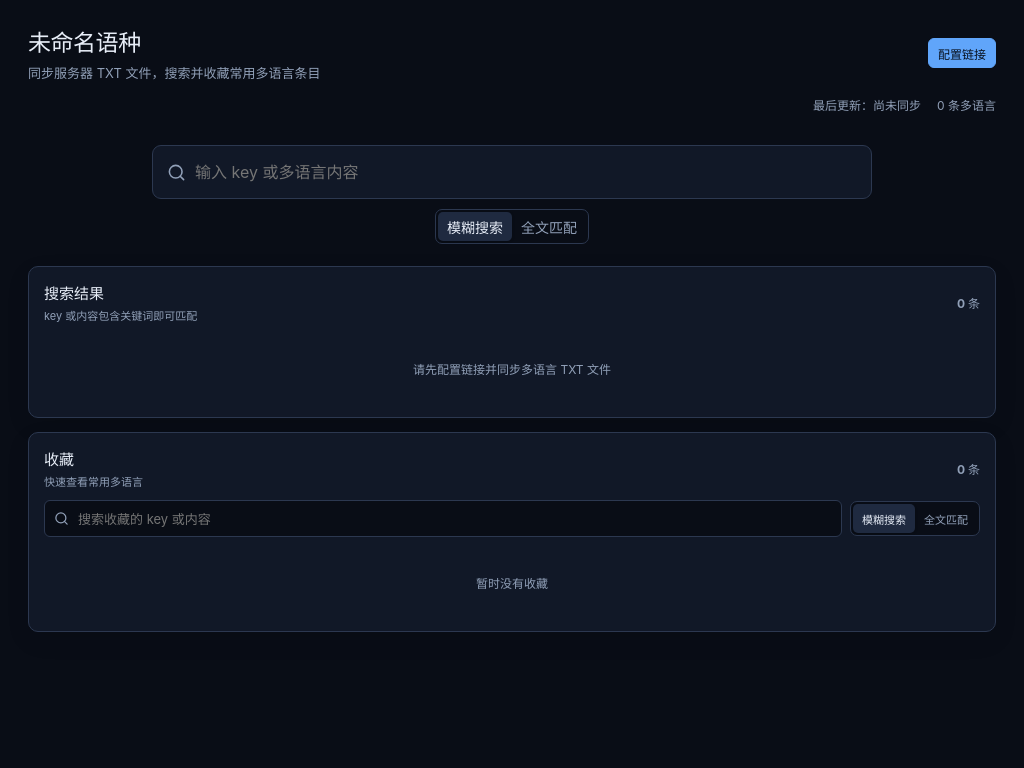
LanguagePage top controls › saves the URL from a dialog without synchronizing, then reveals the sync button
The image size is (1024, 768).
Click the button "配置链接".
click(962, 53)  # box [928, 38, 996, 68]
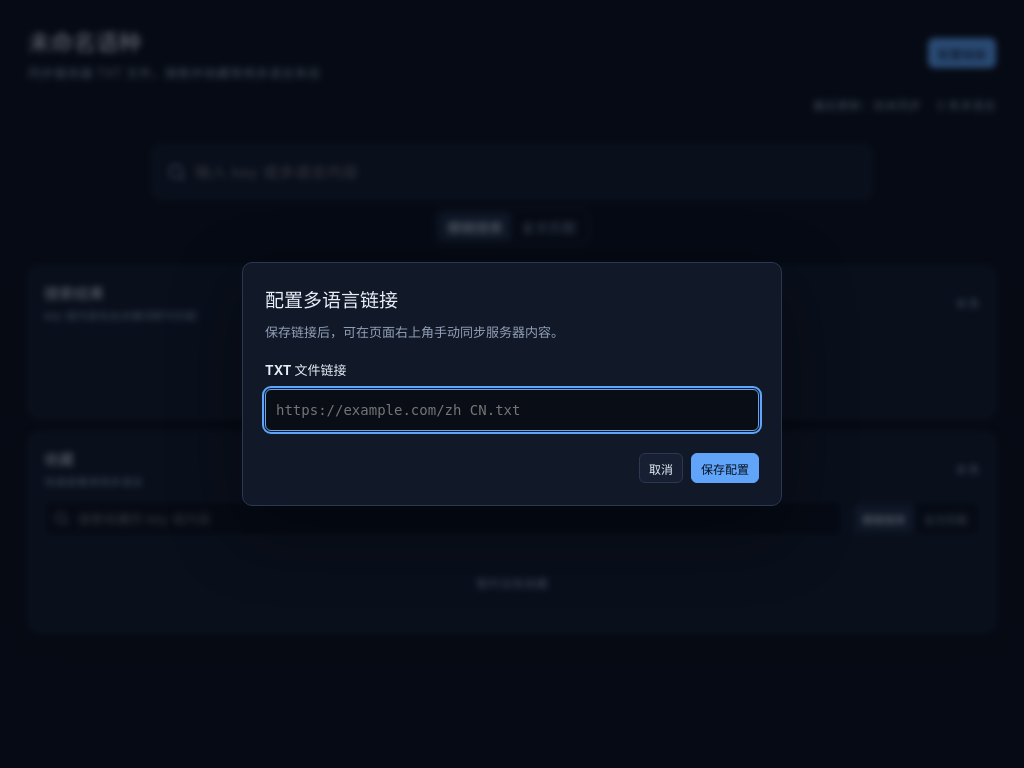
Type "https://example.test/zh_CN.txt" into the field labelled "TXT 文件链接".
click(512, 410); type("https://example.test/zh_CN.txt")  # box [265, 389, 759, 431]
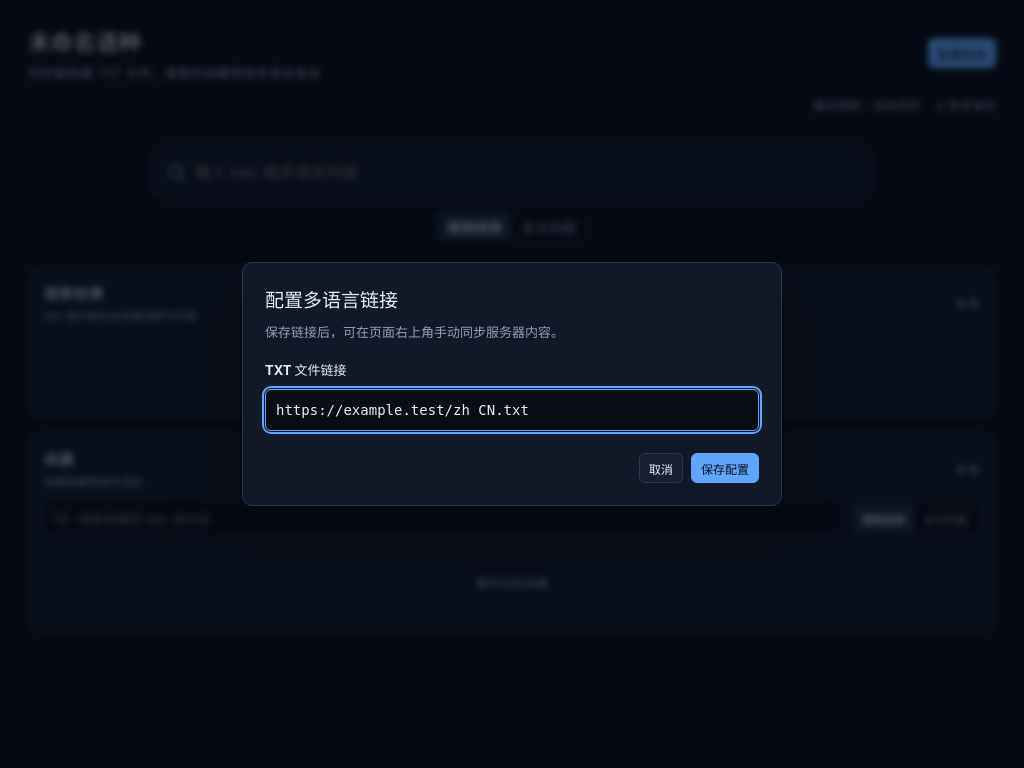
Click the button "保存配置".
click(725, 468)  # box [691, 453, 759, 483]
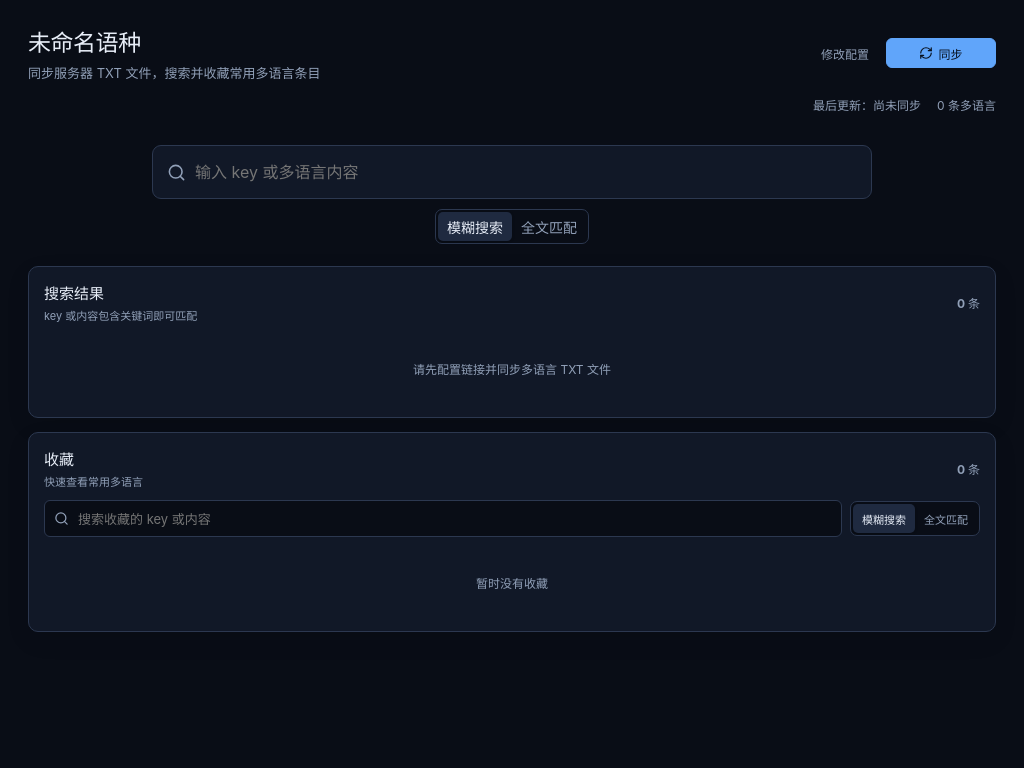
expect the button "同步" is shown: met, box [886, 38, 996, 68]
expect the button "修改配置" is shown: met, box [811, 38, 879, 68]
